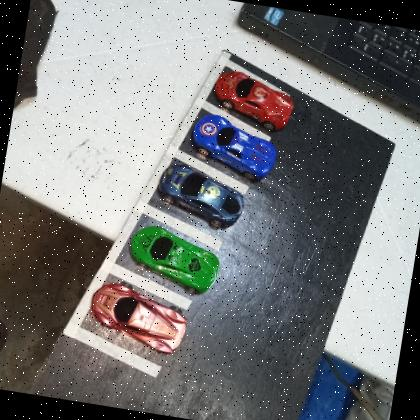Car: (85, 277, 193, 358), (123, 222, 225, 298), (186, 110, 282, 182), (153, 161, 250, 232), (208, 68, 298, 134)
